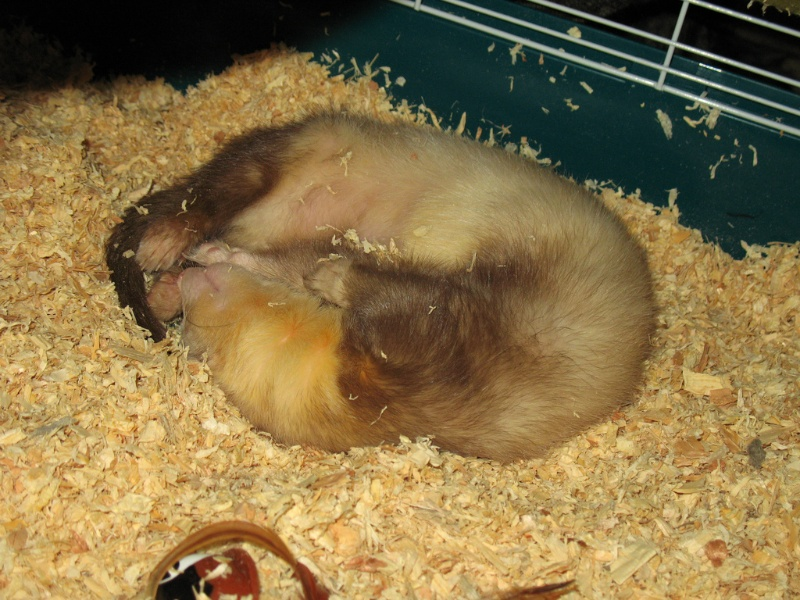minkish: (103, 105, 667, 459)
